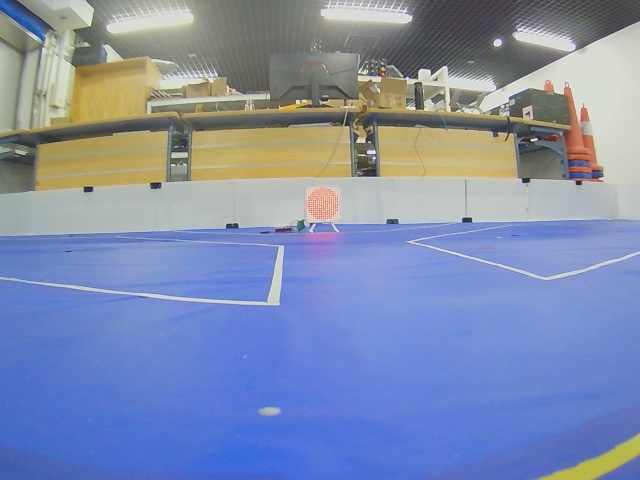red: (306, 187, 340, 223)
